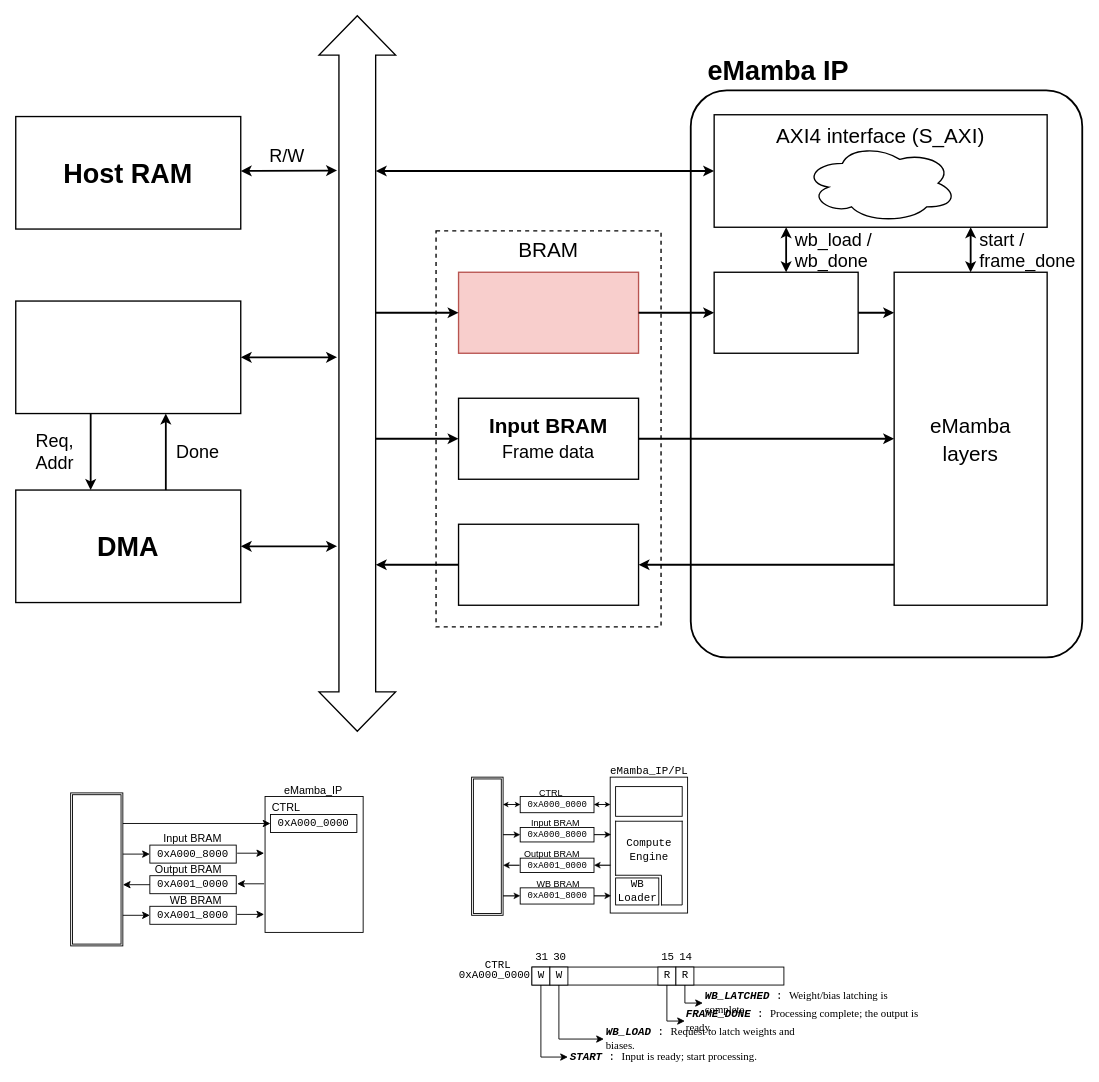
The diagram is 1099 pixels wide and 1082 high, and some of its shapes have lost their labels. The box of each missing label's shape, as (x1, y1, x2, y2) in pixels:
A X I 4 B U S: (318, 15, 396, 732)
ARM: (70, 792, 123, 946)
ARM PS: (471, 776, 503, 915)
Output BRAM Output data: (457, 523, 639, 606)
PS ORCA core / ARM: (15, 300, 241, 414)
S_AXI FSM: (615, 786, 682, 816)
Signals (CTRL reg): (803, 142, 957, 223)
WB BRAM weight, bias (A, D 포함): (457, 271, 639, 354)
WB loader (broadcast): (713, 271, 858, 354)
